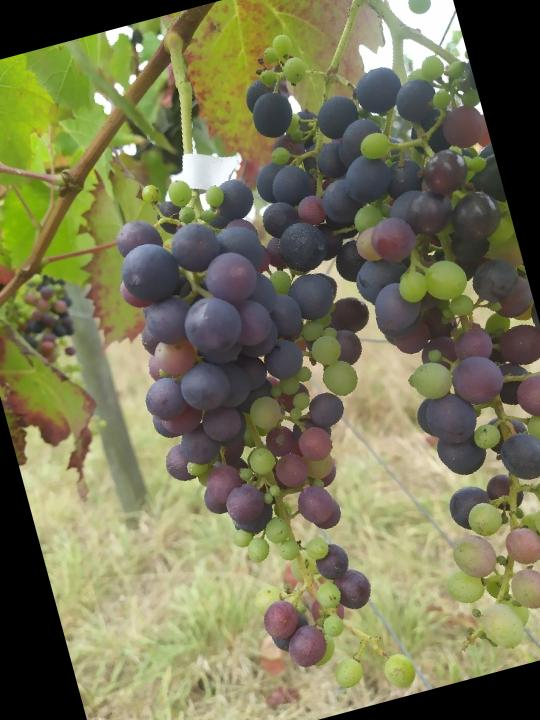grape: (79, 135, 465, 720), (227, 0, 540, 681)
